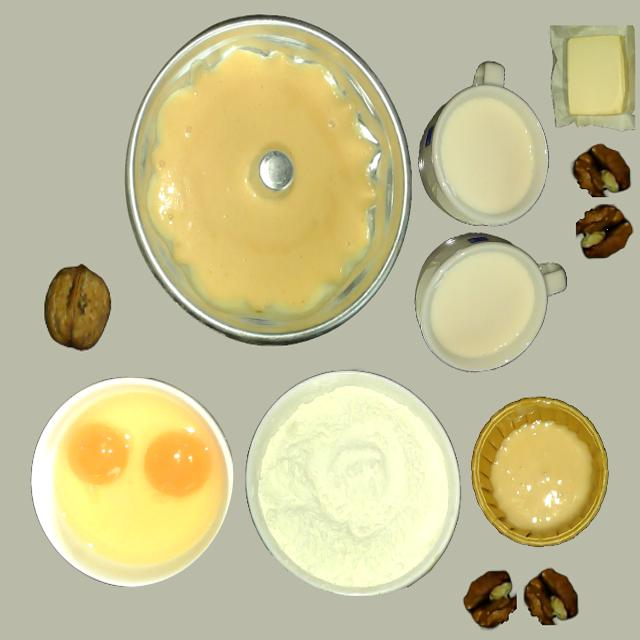Egg: (143, 430, 210, 498), (67, 423, 131, 486)
Flour: (246, 373, 450, 599)
Milk: (438, 96, 538, 218), (429, 250, 537, 360)
Walnut: (44, 265, 110, 349)
